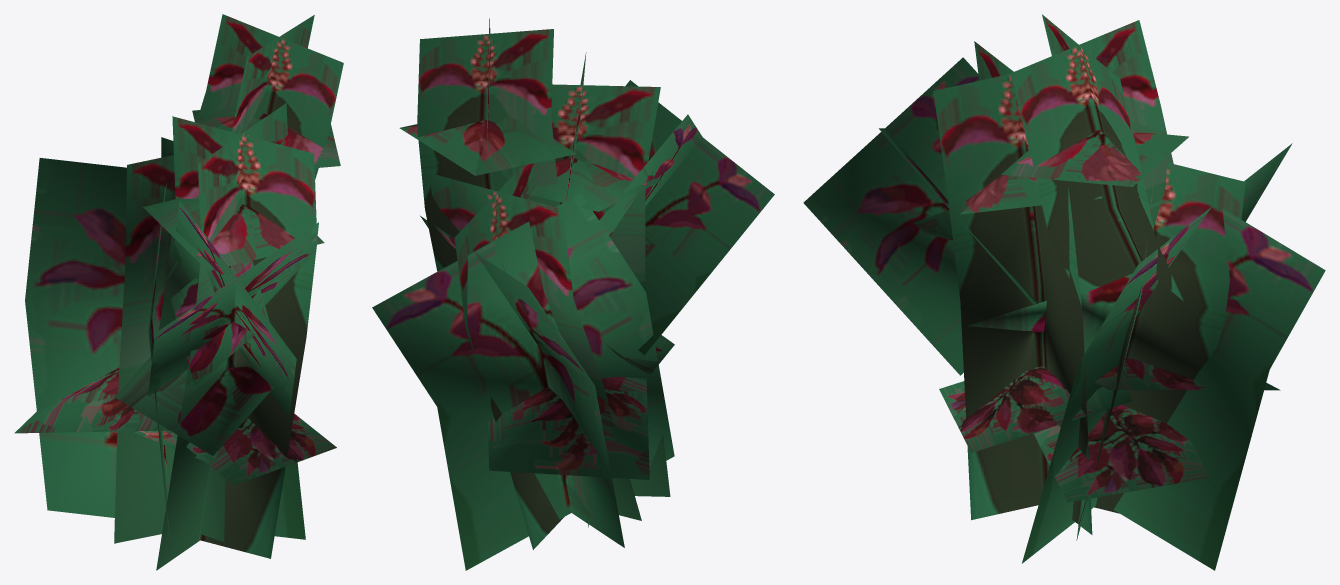
Rendered from sc_gg_grass04_um.fbx.
The picture shows the model from 3 angles, left to right: view 1: azimuth 30°, elevation 25°; view 2: azimuth 150°, elevation 25°; view 3: azimuth 270°, elevation 25°; orthographic projection. The views are drawn at different scales.
Parts seen in each view (by area): view 1: gg_grass04; view 2: gg_grass04; view 3: gg_grass04.
Boxes of the visible parts, bbox=[...] form: gg_grass04: bbox=[14, 14, 343, 570]; gg_grass04: bbox=[372, 18, 774, 570]; gg_grass04: bbox=[803, 14, 1325, 570].
Size of the model in its own units: 80.69 by 139 by 118.
